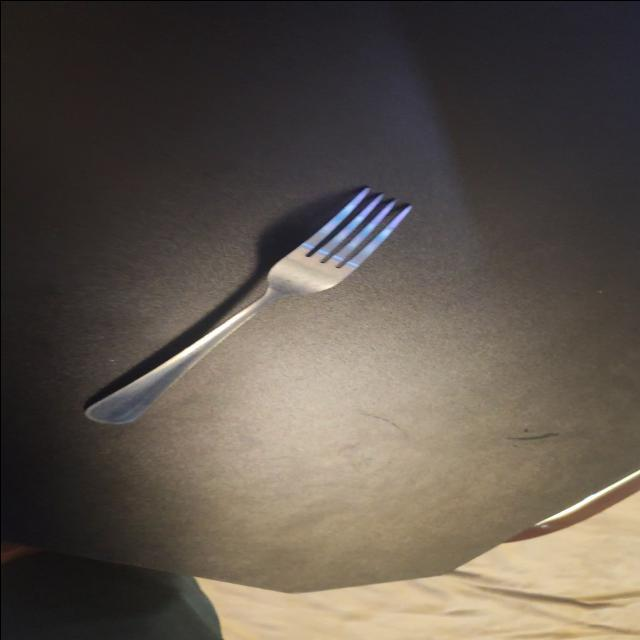plastic utensil: (84, 186, 411, 422)
